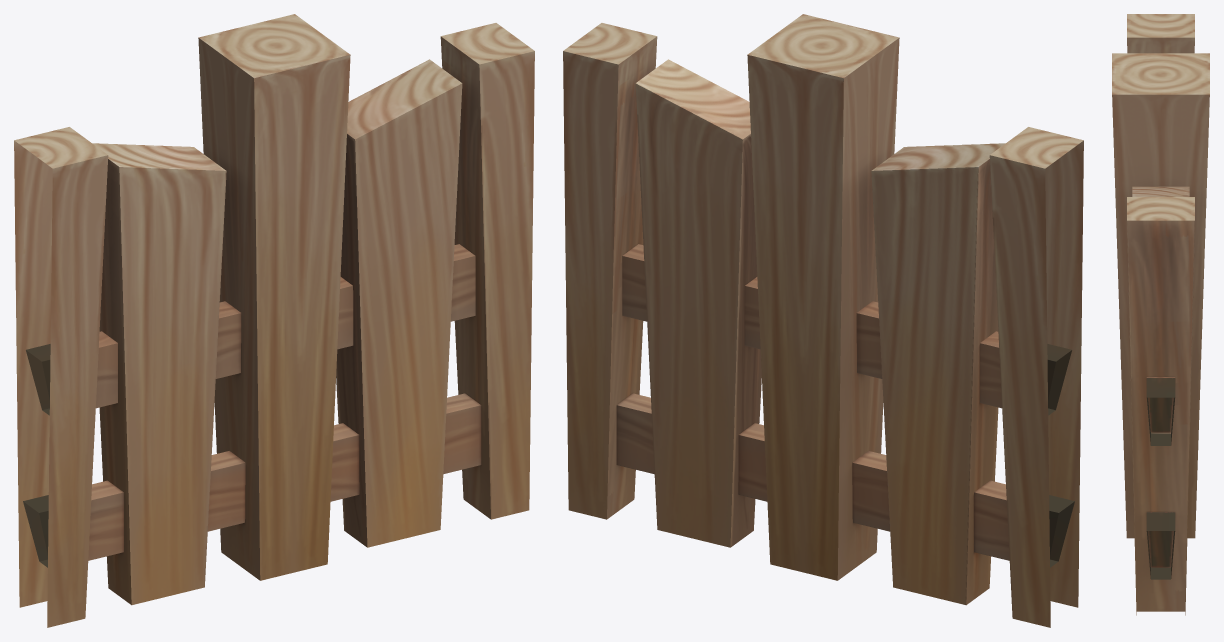
Rendered from fence2_middle2.obj.
3 views of the same model, side by side, from view 1: azimuth 30°, elevation 25°; view 2: azimuth 150°, elevation 25°; view 3: azimuth 270°, elevation 25° (orthographic). The views are drawn at different scales.
Parts seen in each view (by area): view 1: fence2_middle2; view 2: fence2_middle2; view 3: fence2_middle2.
Part boxes in pixels (left/top/right/bottom): fence2_middle2: left=14, top=14, right=534, bottom=627; fence2_middle2: left=563, top=14, right=1083, bottom=627; fence2_middle2: left=1112, top=14, right=1209, bottom=615.
Size of the model in its own units: 50.49 by 50.83 by 10.
